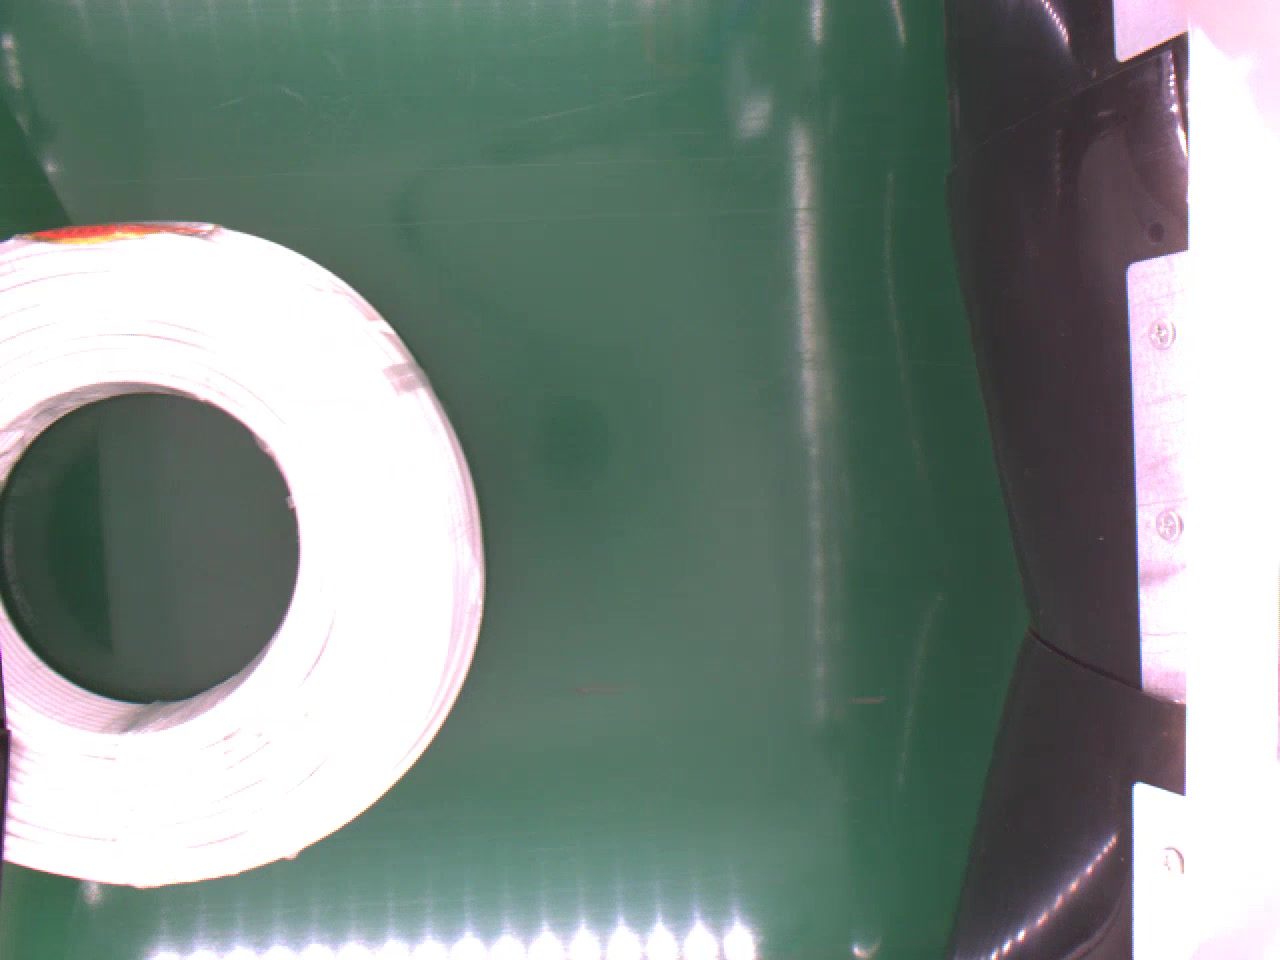white: (0, 216, 489, 890)
